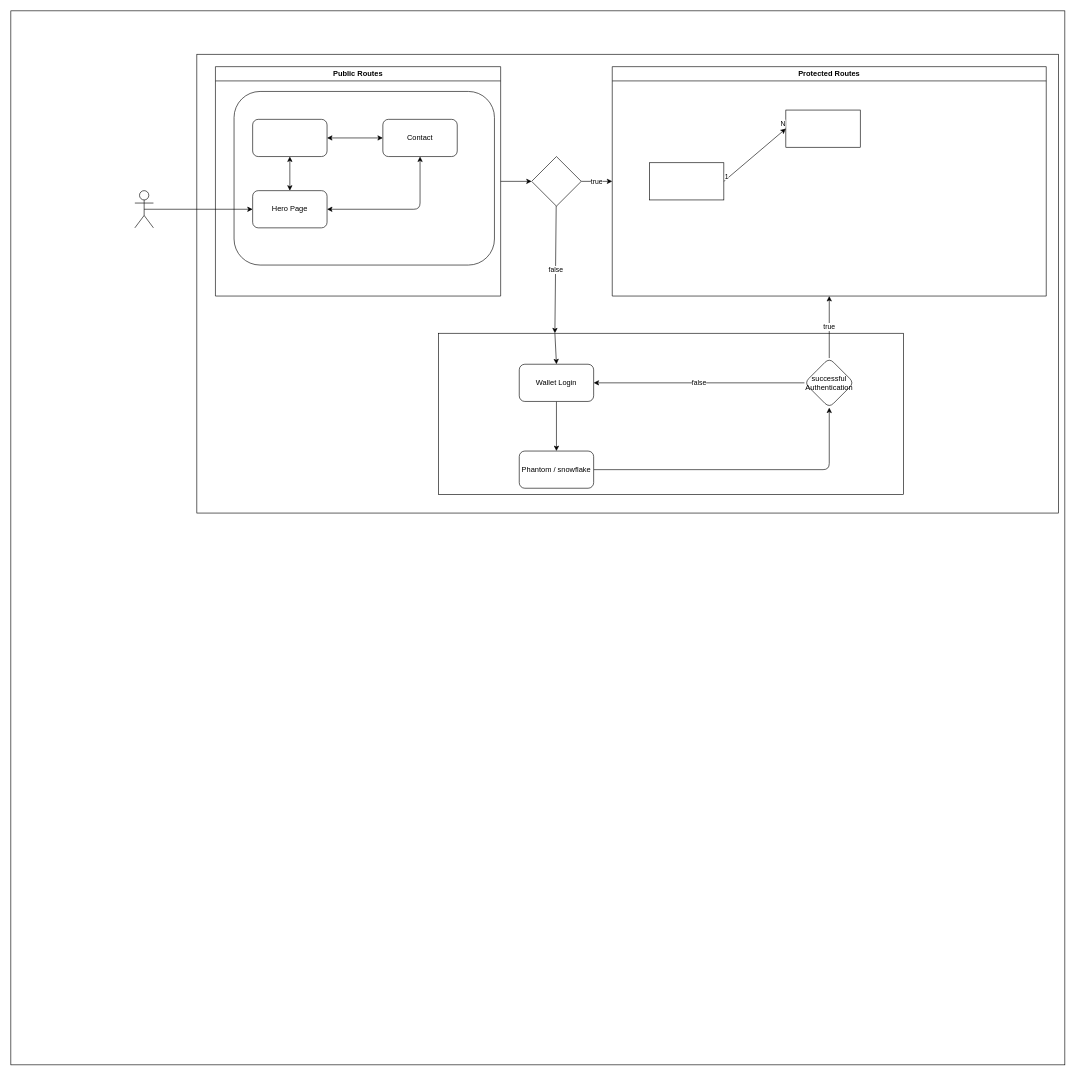
Image size: 1076x1076. Some labels were removed from this diagram. The shapes that lost their labels are listed below. From the top down, each one's centre as x and y in pixels, then its label:
At [289,138]: "About".
At [556,181]: "IsAuth".
At [686,181]: "Tasks".
At [143,209]: "user".
